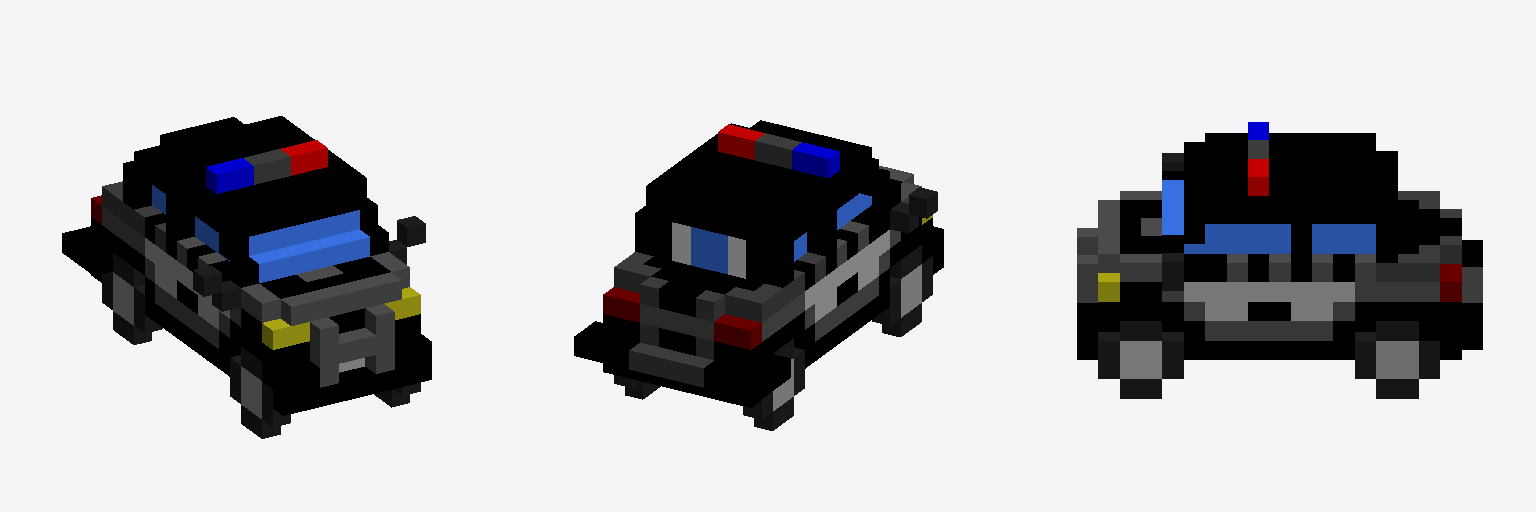
3 views of the same model, side by side, from view 1: azimuth 30°, elevation 25°; view 2: azimuth 150°, elevation 25°; view 3: azimuth 270°, elevation 25° (orthographic).
Visible parts, largest first — view 1: object 1; view 2: object 1; view 3: object 1.
Part boxes in pixels (x1,y1,x2,y2): object 1: (62, 116, 431, 438); object 1: (574, 120, 943, 430); object 1: (1077, 122, 1482, 398).
Bounding box in the file's own units: 1.2 × 1.1 × 1.9.
1 materials, 1 textured.